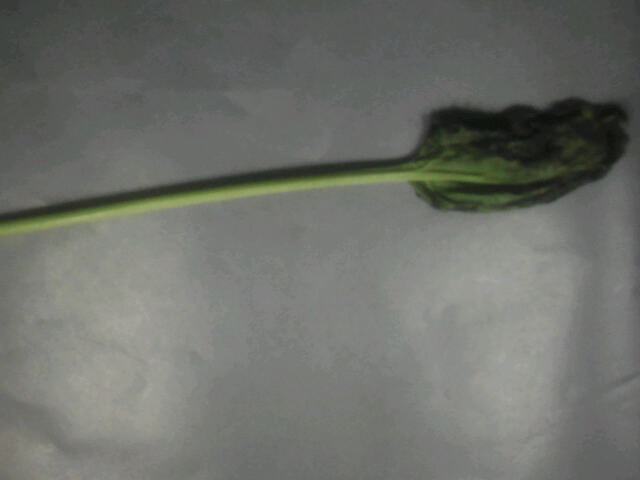yellow: (270, 91, 633, 217)
